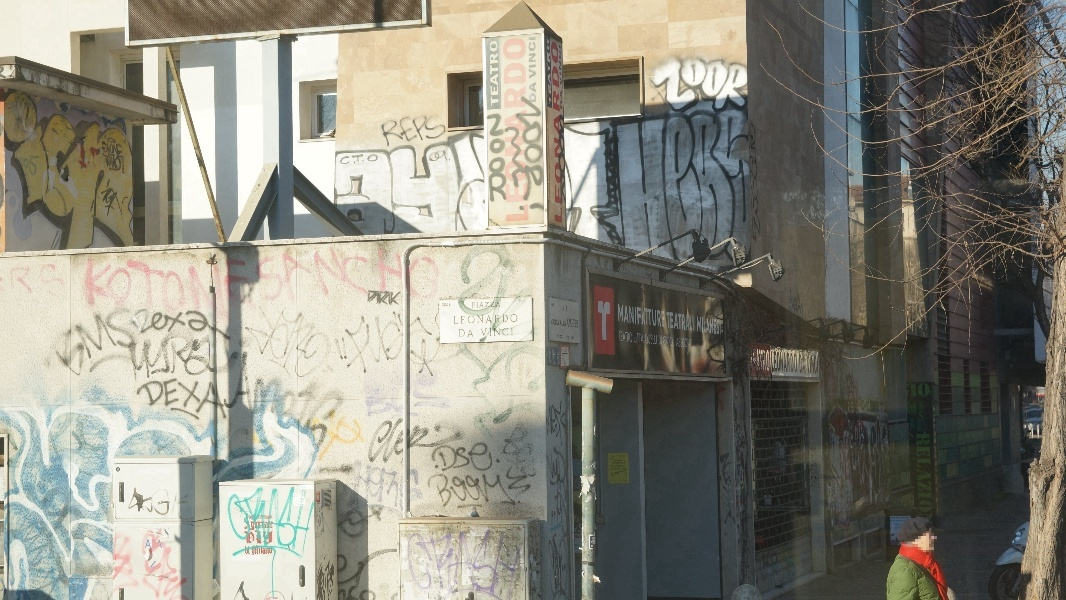text: (513, 39, 528, 221), (561, 109, 576, 289), (577, 109, 592, 289), (593, 109, 608, 289), (609, 109, 624, 289), (625, 109, 640, 289), (641, 109, 656, 289), (657, 109, 672, 289), (673, 109, 688, 289), (689, 109, 704, 289), (705, 109, 720, 289), (721, 109, 736, 289), (737, 109, 752, 289), (753, 109, 768, 289), (385, 420, 400, 599), (401, 420, 416, 599), (417, 420, 432, 599), (547, 403, 560, 593), (561, 403, 571, 593), (337, 127, 352, 242), (353, 127, 368, 242), (369, 127, 384, 242), (385, 127, 400, 242), (401, 127, 416, 242), (417, 127, 432, 242), (433, 127, 448, 242), (449, 127, 464, 242), (465, 127, 480, 242), (497, 92, 512, 203), (513, 92, 528, 203), (529, 92, 544, 203), (551, 42, 560, 225), (504, 39, 512, 221), (433, 420, 441, 599), (377, 420, 384, 599), (485, 92, 496, 203), (225, 482, 240, 556), (241, 482, 256, 556), (257, 482, 272, 556), (273, 482, 288, 556), (289, 482, 304, 556), (305, 482, 320, 556), (145, 304, 160, 376), (161, 304, 176, 376), (177, 304, 192, 376), (193, 304, 208, 376), (209, 304, 224, 376), (225, 304, 240, 376), (241, 304, 256, 376), (257, 304, 272, 376), (273, 304, 288, 376), (289, 304, 304, 376), (305, 304, 320, 376), (321, 304, 336, 376), (337, 304, 352, 376), (353, 304, 368, 376), (369, 304, 384, 376), (385, 304, 400, 376), (401, 304, 416, 376), (417, 304, 432, 376), (915, 433, 928, 514), (17, 246, 32, 316), (33, 246, 48, 316), (49, 246, 64, 316), (65, 246, 80, 316), (81, 246, 96, 316), (97, 246, 112, 316), (113, 246, 128, 316), (129, 246, 144, 316), (145, 246, 160, 316), (161, 246, 176, 316), (177, 246, 192, 316), (193, 246, 208, 316), (209, 246, 224, 316), (225, 246, 240, 316), (241, 246, 256, 316), (257, 246, 272, 316), (273, 246, 288, 316), (289, 246, 304, 316), (305, 246, 320, 316), (321, 246, 336, 316), (337, 246, 352, 316), (353, 246, 368, 316), (369, 246, 384, 316), (385, 246, 400, 316), (401, 246, 416, 316), (417, 246, 432, 316), (417, 526, 432, 596), (433, 526, 448, 596), (449, 526, 464, 596), (465, 526, 480, 596), (481, 526, 496, 596), (497, 526, 512, 596), (481, 127, 490, 242), (546, 40, 560, 106), (433, 246, 446, 316), (513, 526, 526, 596), (81, 306, 96, 364), (97, 306, 112, 364), (113, 306, 128, 364), (529, 425, 544, 483), (132, 304, 144, 376), (657, 55, 672, 112), (673, 55, 688, 112), (689, 55, 704, 112), (705, 55, 720, 112), (721, 55, 736, 112), (404, 526, 416, 596), (241, 382, 256, 437), (257, 382, 272, 437), (273, 382, 288, 437), (289, 382, 304, 437), (305, 382, 320, 437), (321, 382, 336, 437), (433, 304, 444, 376), (6, 246, 16, 316), (737, 55, 749, 112), (529, 37, 544, 81), (517, 425, 528, 483), (145, 379, 160, 420), (161, 379, 176, 420), (177, 379, 192, 420), (193, 379, 208, 420), (209, 379, 224, 420), (385, 112, 400, 151), (401, 112, 416, 151), (417, 112, 432, 151), (433, 112, 448, 151), (70, 306, 80, 364), (129, 306, 139, 364), (433, 471, 448, 508), (449, 471, 464, 508), (465, 471, 480, 508), (481, 471, 496, 508), (497, 471, 512, 508), (561, 42, 564, 225), (625, 304, 640, 337), (641, 304, 656, 337), (657, 304, 672, 337), (673, 304, 688, 337), (689, 304, 704, 337), (705, 304, 720, 337), (929, 433, 935, 514), (332, 127, 336, 242), (648, 55, 656, 112), (99, 140, 112, 175), (113, 140, 126, 175), (597, 300, 608, 341), (133, 379, 144, 420), (753, 348, 768, 378), (769, 348, 784, 378), (785, 348, 800, 378), (801, 348, 816, 378), (161, 487, 176, 517), (177, 487, 192, 517), (433, 442, 448, 471), (449, 442, 464, 471), (465, 442, 480, 471), (481, 442, 496, 471), (490, 41, 496, 107), (321, 482, 326, 556), (558, 109, 560, 289), (769, 109, 771, 289), (234, 382, 240, 437), (337, 382, 343, 437), (529, 82, 544, 104), (369, 288, 384, 308), (385, 288, 400, 308), (18, 156, 32, 176), (377, 112, 384, 151), (625, 331, 640, 349), (641, 331, 656, 349), (657, 331, 672, 349), (673, 331, 688, 349), (425, 471, 432, 508), (513, 471, 520, 508), (152, 487, 160, 517), (913, 383, 928, 398), (353, 153, 368, 167), (225, 379, 230, 420), (618, 304, 624, 337), (497, 41, 500, 107), (338, 153, 352, 167), (529, 39, 530, 221), (369, 153, 381, 167), (465, 315, 480, 325), (481, 315, 496, 325), (497, 315, 512, 325), (33, 156, 40, 176), (465, 328, 480, 337), (481, 328, 496, 337), (497, 328, 512, 337), (558, 45, 560, 112), (561, 45, 563, 112), (609, 300, 612, 341), (481, 301, 496, 309), (817, 348, 821, 378), (545, 92, 546, 203), (563, 304, 576, 312), (454, 315, 464, 325), (567, 318, 576, 329), (619, 331, 624, 349), (449, 112, 451, 151), (689, 331, 693, 349), (565, 347, 576, 353), (552, 319, 560, 327), (472, 301, 480, 309), (513, 315, 519, 325), (564, 361, 576, 366), (497, 442, 499, 471), (545, 425, 546, 483), (458, 328, 464, 337), (561, 319, 567, 327), (909, 383, 912, 398), (566, 336, 576, 340), (497, 301, 502, 309), (366, 288, 368, 308), (442, 301, 448, 307), (721, 304, 722, 337), (751, 348, 752, 378), (929, 383, 931, 398), (431, 442, 432, 471), (577, 318, 579, 329), (401, 288, 402, 308), (449, 301, 452, 307), (557, 334, 560, 339), (513, 328, 514, 337), (561, 334, 562, 339)
